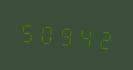five: (18, 15, 36, 47)
four: (75, 20, 93, 52)
nine: (56, 19, 74, 50)
two: (94, 22, 112, 53)
zero: (37, 17, 55, 48)
